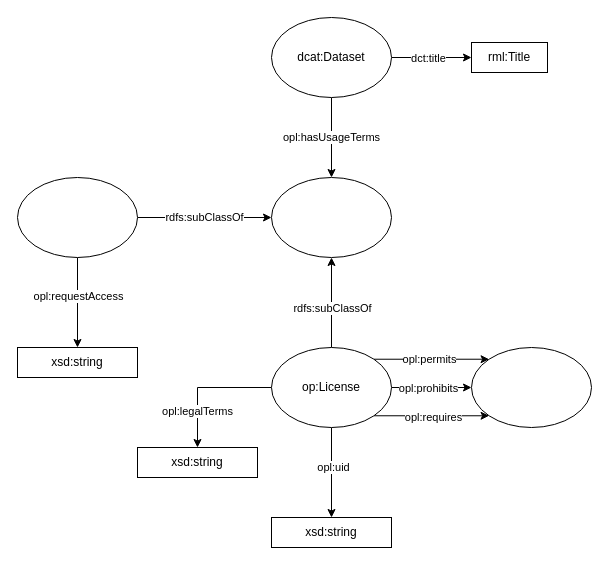
Image size: 609x565. Some labels were removed from this diagram. The shapes that lost their labels are listed below. From the top down, each one's centre as x and y in pixels, then its label:
At pixel 77 217: "opl:AccessibilityTerms".
At pixel 331 217: "opl:UsageTerms".
At pixel 531 387: "opl:LicenseTerms".
